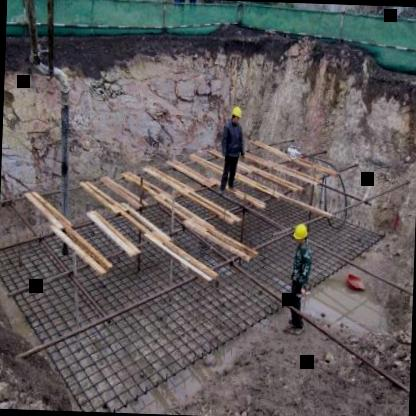helmet: (290, 220, 311, 249), (230, 103, 246, 126)
